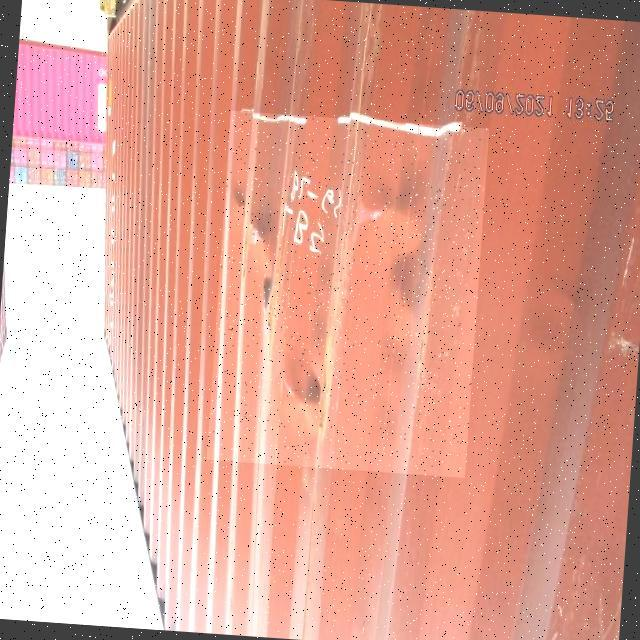Dent: (206, 111, 489, 478)
